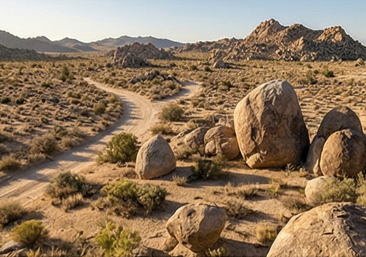rocks: (234, 80, 365, 256), (166, 204, 226, 251), (185, 125, 239, 159), (136, 136, 175, 178)
